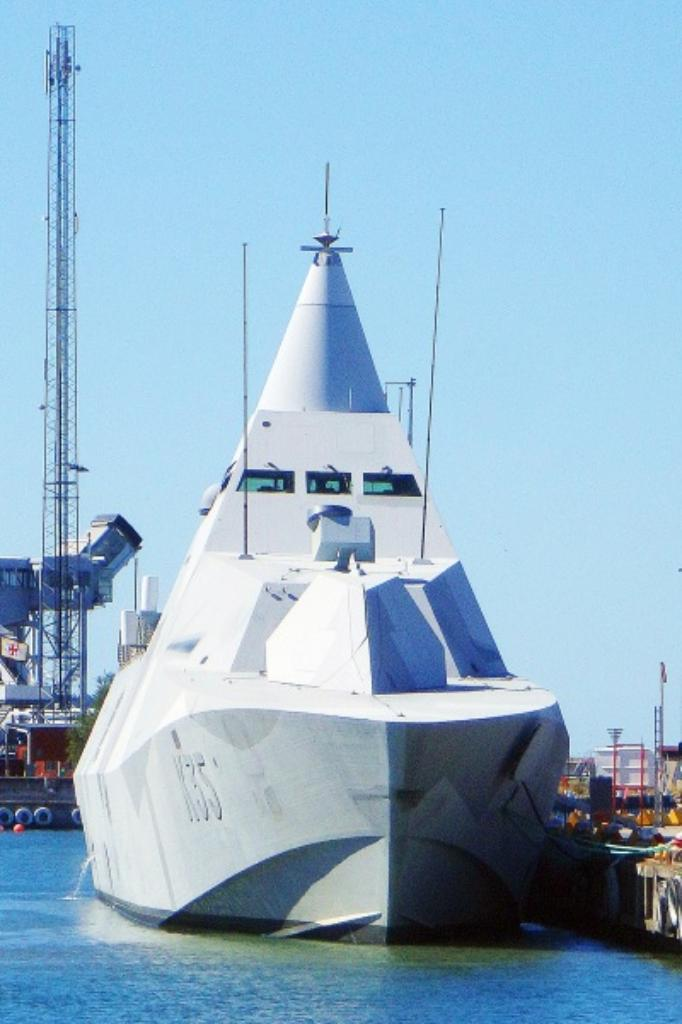Warship: (73, 149, 577, 953)
